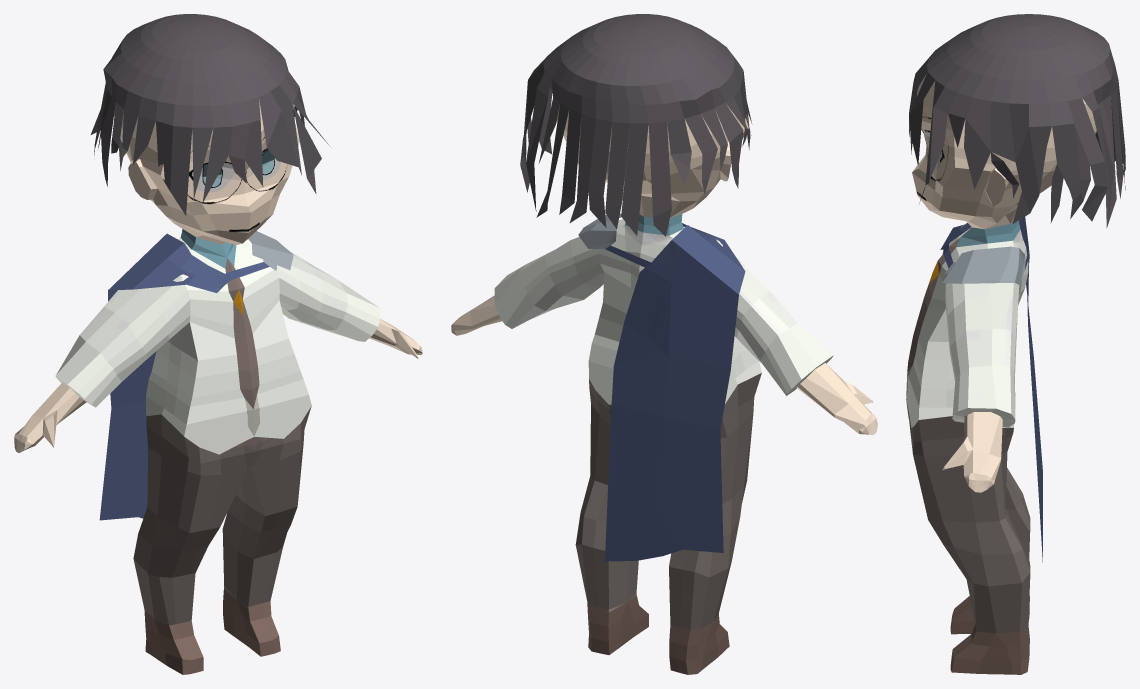
File: Supporter15Texturing.fbx
3 views of the same model, side by side, from view 1: azimuth 30°, elevation 25°; view 2: azimuth 150°, elevation 25°; view 3: azimuth 270°, elevation 25° (orthographic). The views are drawn at different scales.
Parts seen in each view (by area): view 1: Cube, Attribut; view 2: Attribut, Cube; view 3: Cube, Attribut.
Part boxes in pixels (<box>): Cube: <box>14,99,422,674</box>; Attribut: <box>90,14,329,520</box>; Attribut: <box>520,14,752,561</box>; Cube: <box>451,93,877,674</box>; Cube: <box>906,73,1096,674</box>; Attribut: <box>909,14,1125,562</box>.
Bounding box in the file's own units: 1169 × 1689 × 540.
